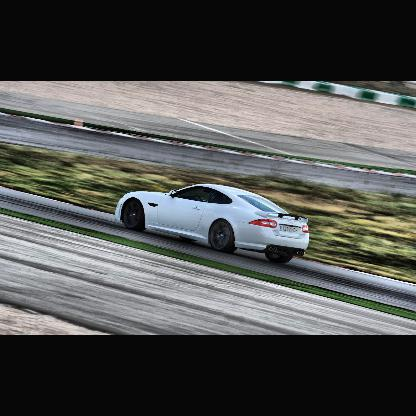Jaguar XK XKR 2012: (116, 183, 311, 265)
